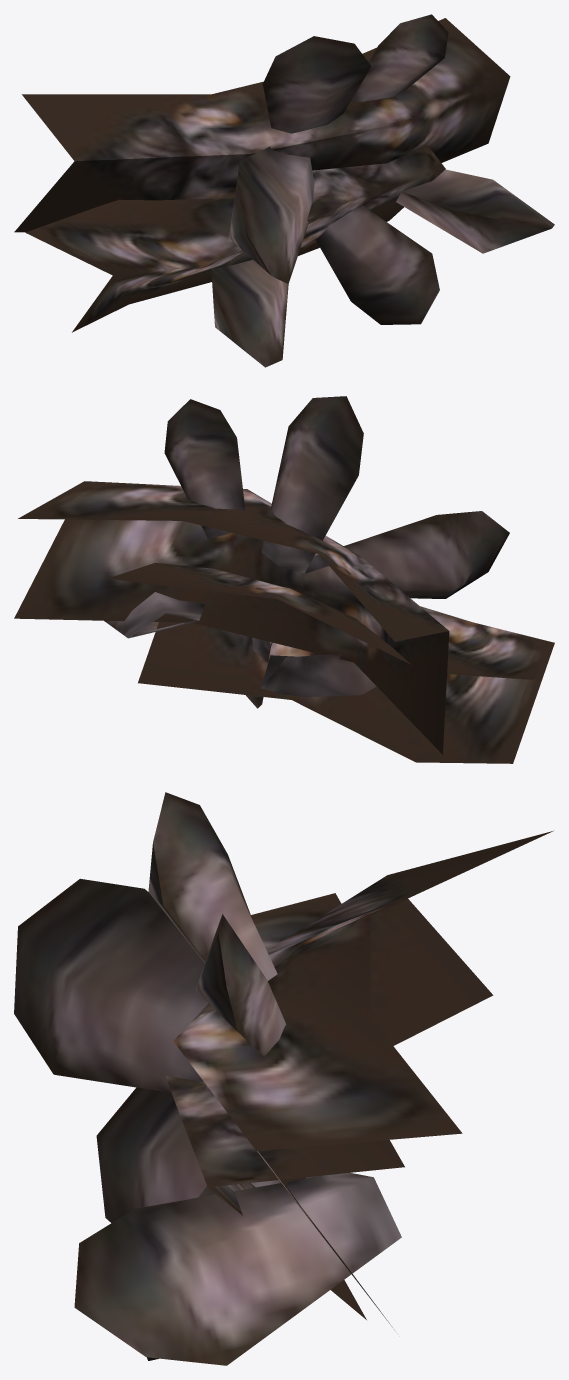
File: pir_m_prp_dvj_mussels_a.fbx
The picture shows the model from 3 angles, top to bottom: view 1: azimuth 30°, elevation 25°; view 2: azimuth 150°, elevation 25°; view 3: azimuth 270°, elevation 25°; orthographic projection. The views are drawn at different scales.
Visible parts, largest first — view 1: mussels3, mussels4, mussels1, mussel10, mussel, mussel7, mussel8, mussel6, mussels2, mussel9; view 2: mussels3, mussels4, mussel7, mussel, mussels2, mussels1, mussel9, mussel6, mussel8, mussel10; view 3: mussels3, mussel8, mussel, mussels4, mussels1, mussel7, mussel6, mussel9, mussels2.
Part boxes in pixels (<box>): mussels3: <box>14,18,510,232</box>; mussels4: <box>25,145,445,332</box>; mussels1: <box>23,19,507,199</box>; mussel10: <box>316,205,439,324</box>; mussel: <box>229,146,314,284</box>; mussel7: <box>262,36,371,133</box>; mussel8: <box>396,169,554,253</box>; mussel6: <box>211,259,288,367</box>; mussels2: <box>27,163,443,330</box>; mussel9: <box>351,14,448,101</box>; mussels3: <box>14,481,449,754</box>; mussels4: <box>107,562,554,763</box>; mussel7: <box>261,396,363,573</box>; mussel: <box>303,511,509,598</box>; mussels2: <box>138,571,552,763</box>; mussels1: <box>15,483,446,659</box>; mussel9: <box>164,399,245,538</box>; mussel6: <box>261,653,376,696</box>; mussel8: <box>104,592,204,638</box>; mussel10: <box>246,637,272,708</box>; mussels3: <box>173,831,553,1327</box>; mussel8: <box>74,1172,401,1365</box>; mussel: <box>14,878,208,1092</box>; mussels4: <box>166,893,404,1319</box>; mussels1: <box>176,833,544,1237</box>; mussel7: <box>148,792,277,980</box>; mussel6: <box>96,1087,321,1222</box>; mussel9: <box>195,914,285,1056</box>; mussels2: <box>166,894,365,1317</box>.
Bounding box in the file's own units: 460 × 286 × 281.
Materials: 1 (1 with a texture image).
